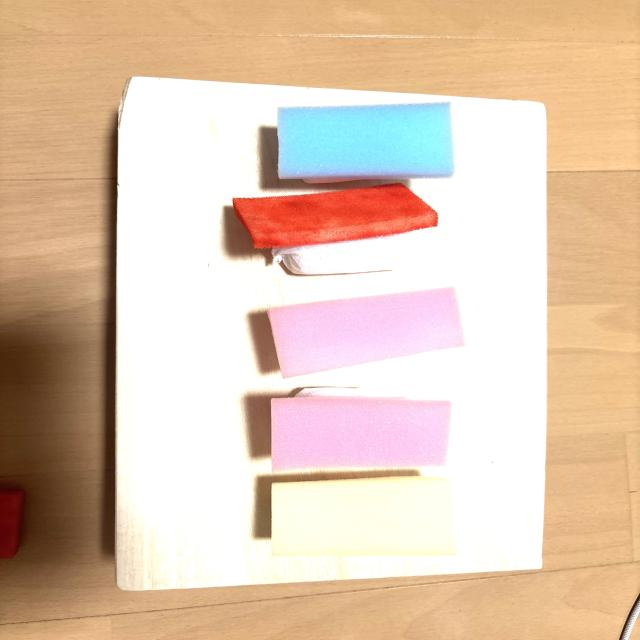NG: (233, 183, 438, 275)
ika: (278, 102, 454, 184)
tai: (268, 288, 465, 378), (271, 387, 451, 471)
tamago: (272, 476, 455, 556)
